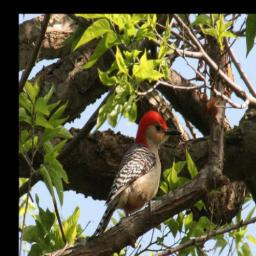Woodpecker: (88, 107, 183, 241)
